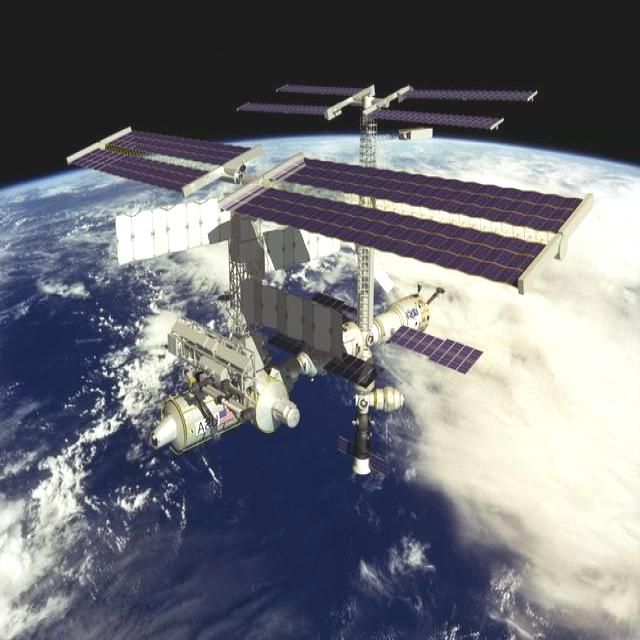satellite: (68, 85, 594, 475)
